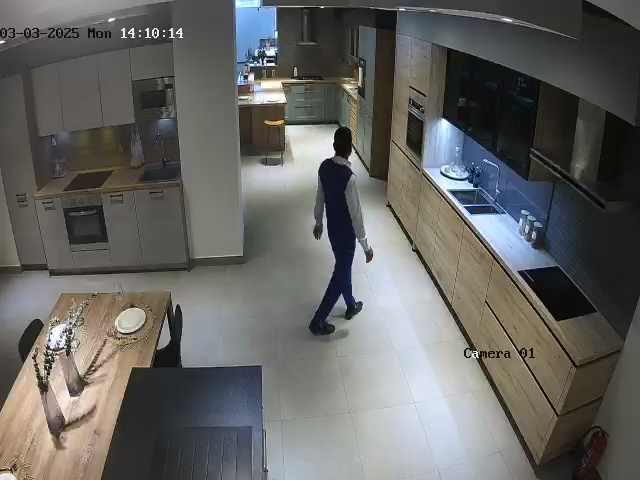employee: (308, 126, 374, 336)
